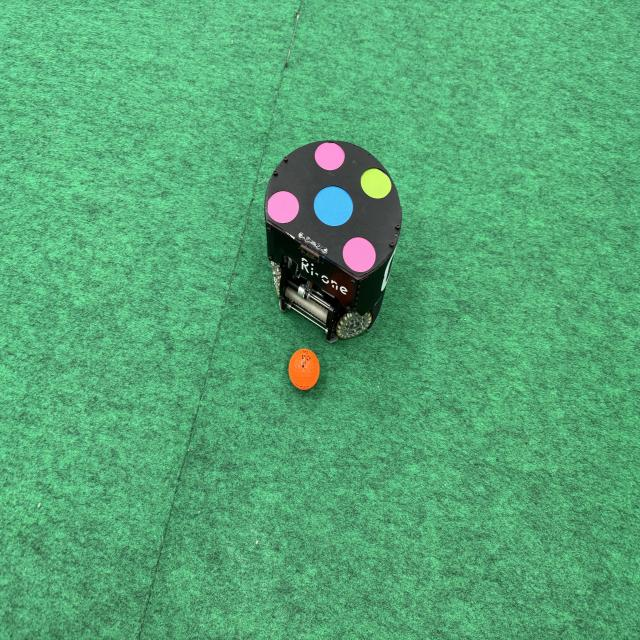ball: (286, 344, 324, 395)
